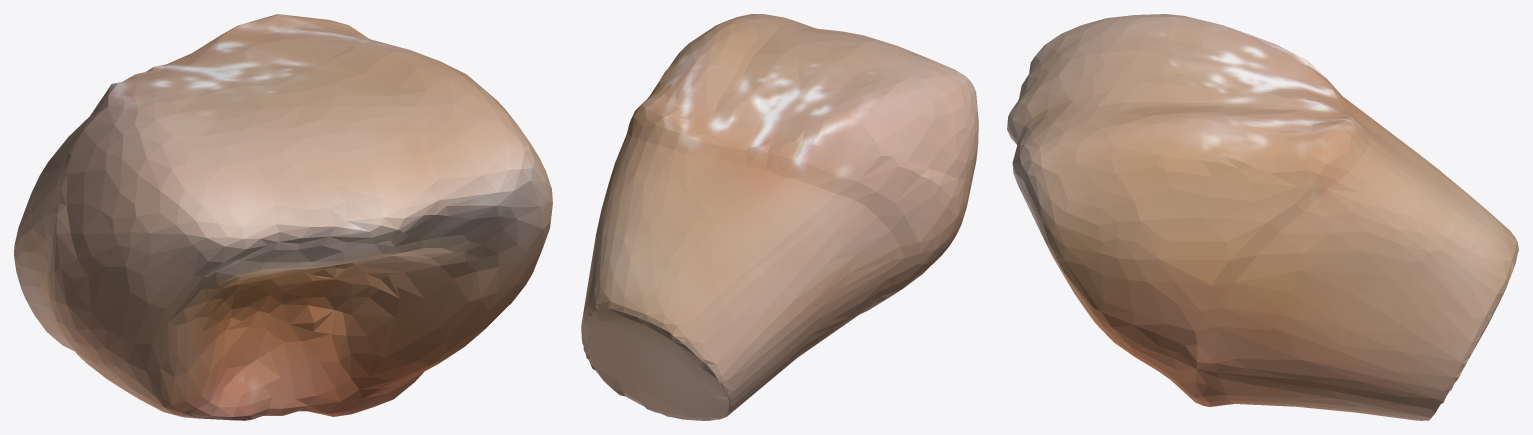
The model's file is local_t12_7780.OBJ.
3 views of the same model, side by side, from view 1: azimuth 30°, elevation 25°; view 2: azimuth 150°, elevation 25°; view 3: azimuth 270°, elevation 25° (orthographic). The views are drawn at different scales.
Parts seen in each view (by area): view 1: ZBrush_defualt_group; view 2: ZBrush_defualt_group; view 3: ZBrush_defualt_group.
Part boxes in pixels (left/top/right/bottom): ZBrush_defualt_group: left=14, top=14, right=552, bottom=420; ZBrush_defualt_group: left=581, top=14, right=978, bottom=420; ZBrush_defualt_group: left=1007, top=14, right=1518, bottom=420.
Size of the model in its own units: 7.97 by 7.06 by 10.01.
1 material, 1 textured.
